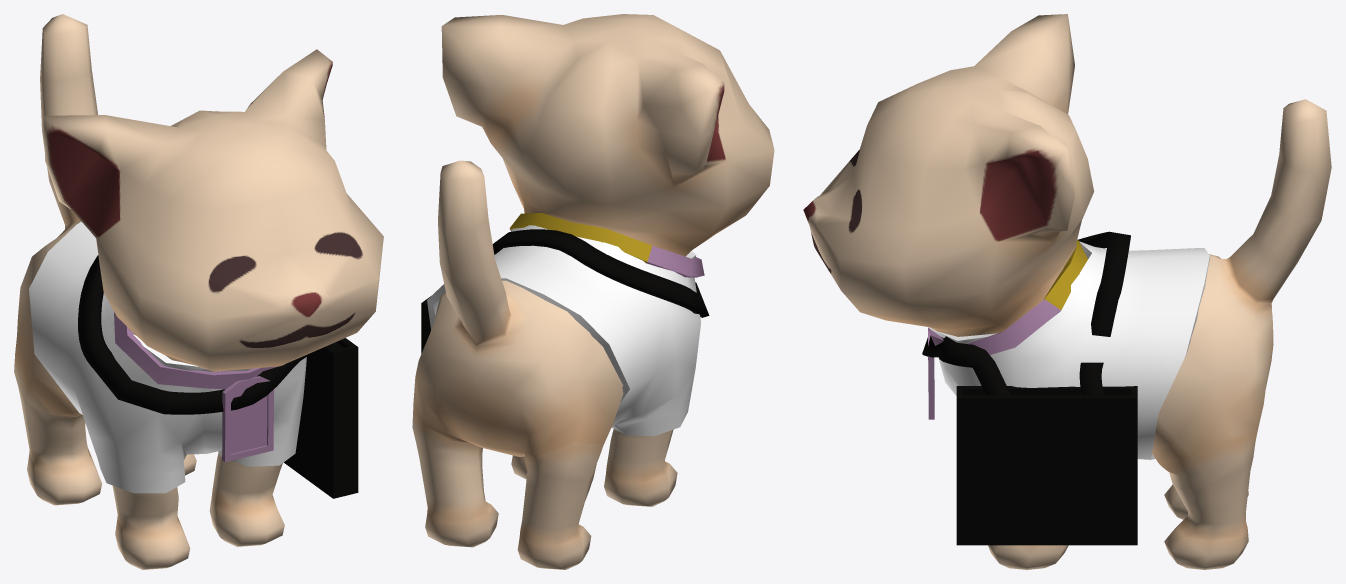
The model's file is Student Cat02_01.fbx.
The picture shows the model from 3 angles, left to right: view 1: azimuth 30°, elevation 25°; view 2: azimuth 150°, elevation 25°; view 3: azimuth 270°, elevation 25°; orthographic projection. The views are drawn at different scales.
Parts seen in each view (by area): view 1: Cat_Base, tshirt, ToteBag, id; view 2: Cat_Base, tshirt, ToteBag, id; view 3: Cat_Base, ToteBag, tshirt, id.
Boxes of the visible parts, x1,y1,x2,y2 form: Cat_Base: [14, 14, 383, 569]; tshirt: [29, 221, 306, 493]; ToteBag: [78, 255, 358, 498]; id: [114, 312, 284, 462]; Cat_Base: [412, 14, 774, 569]; tshirt: [427, 225, 700, 436]; ToteBag: [421, 229, 709, 353]; id: [509, 213, 704, 277]; Cat_Base: [803, 14, 1331, 569]; ToteBag: [922, 231, 1137, 545]; tshirt: [928, 241, 1209, 459]; id: [928, 239, 1087, 419].
Size of the model in its own units: 1.75 by 2.83 by 2.68.
5 materials, 1 textured.
